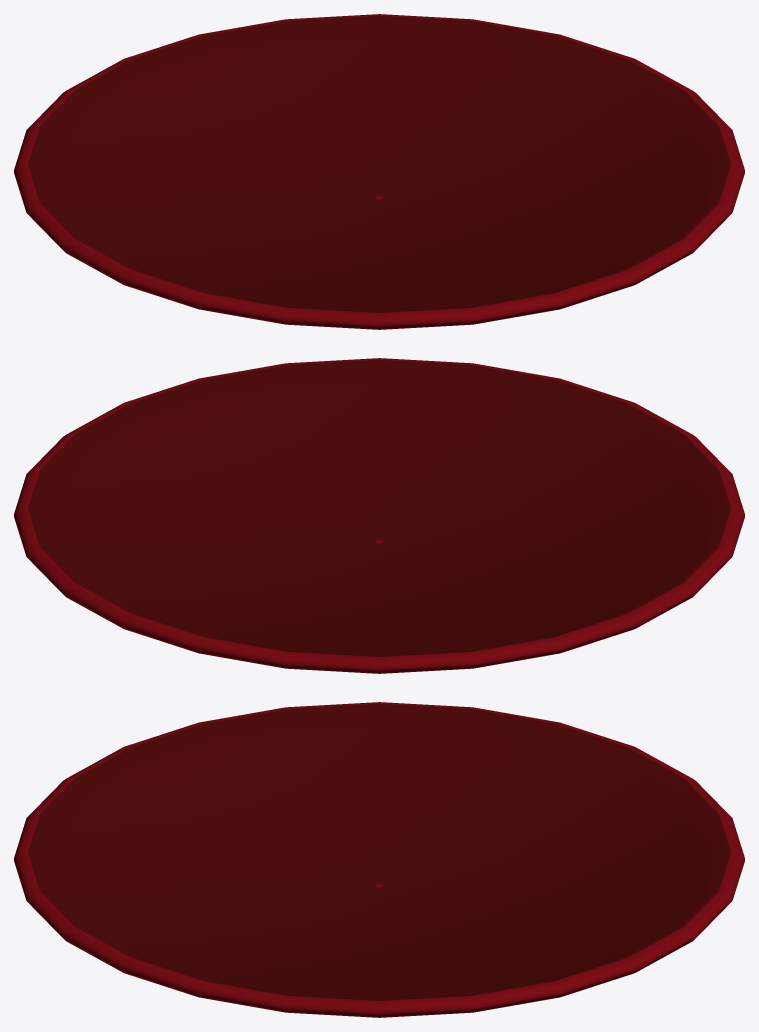
The model's file is Plato1.fbx.
3 views of the same model, one above another, from view 1: azimuth 30°, elevation 25°; view 2: azimuth 150°, elevation 25°; view 3: azimuth 270°, elevation 25° (orthographic).
Parts seen in each view (by area): view 1: Cylinder.003; view 2: Cylinder.003; view 3: Cylinder.003.
Part boxes in pixels (left/top/right/bottom): Cylinder.003: left=14, top=14, right=744, bottom=329; Cylinder.003: left=14, top=358, right=744, bottom=673; Cylinder.003: left=14, top=702, right=744, bottom=1017.
Size of the model in its own units: 470 by 26.87 by 470.
